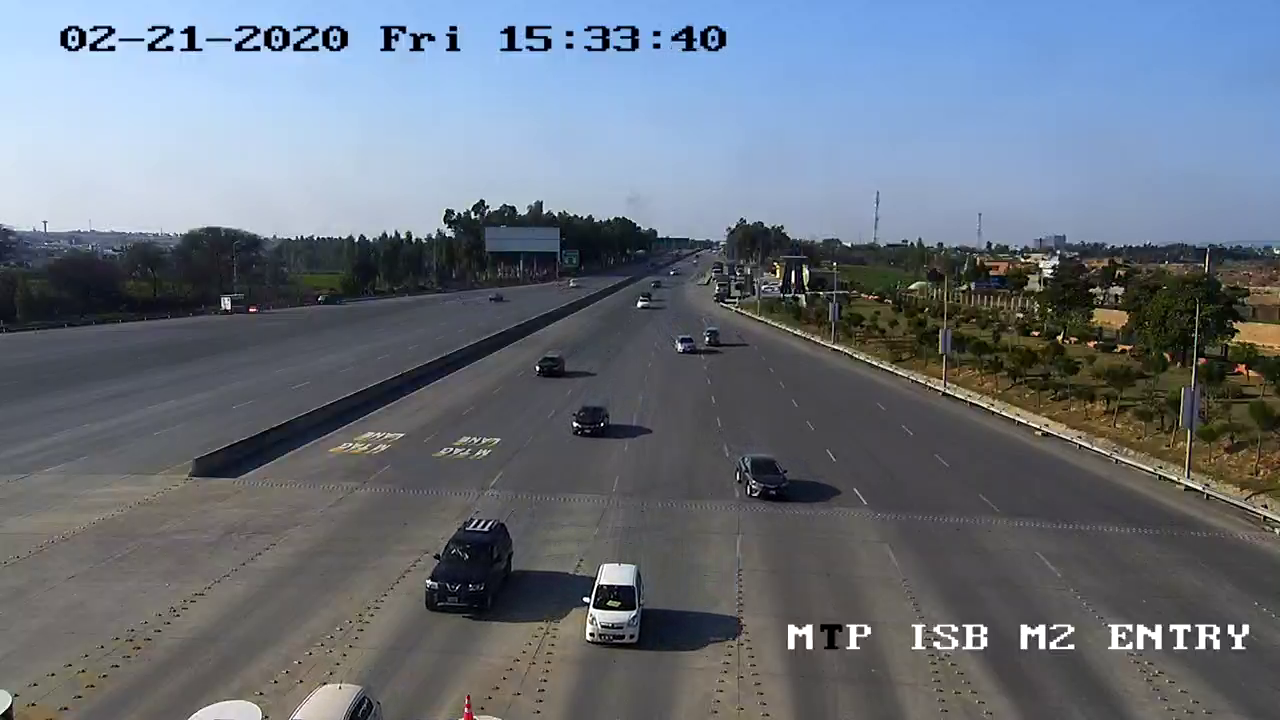f1: (412, 508, 528, 623), (568, 552, 659, 653), (726, 444, 797, 509), (560, 397, 620, 444)
